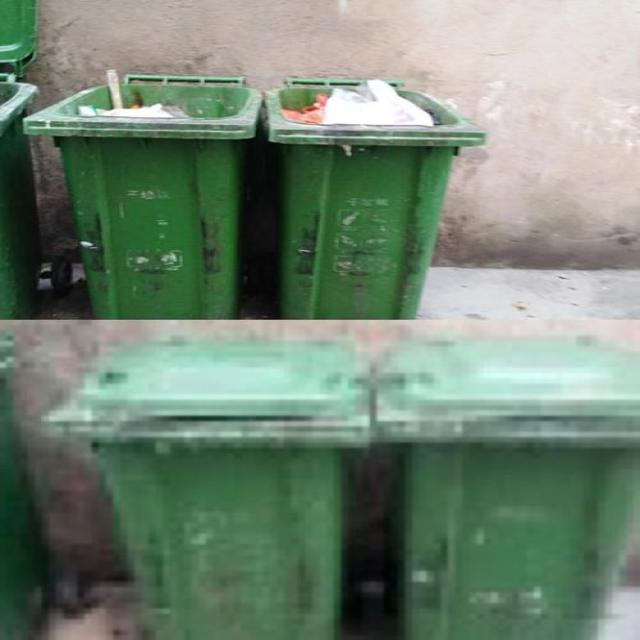garbage_bin: (49, 342, 368, 639), (374, 333, 638, 639)
overflow: (20, 67, 260, 318), (262, 73, 484, 318)
